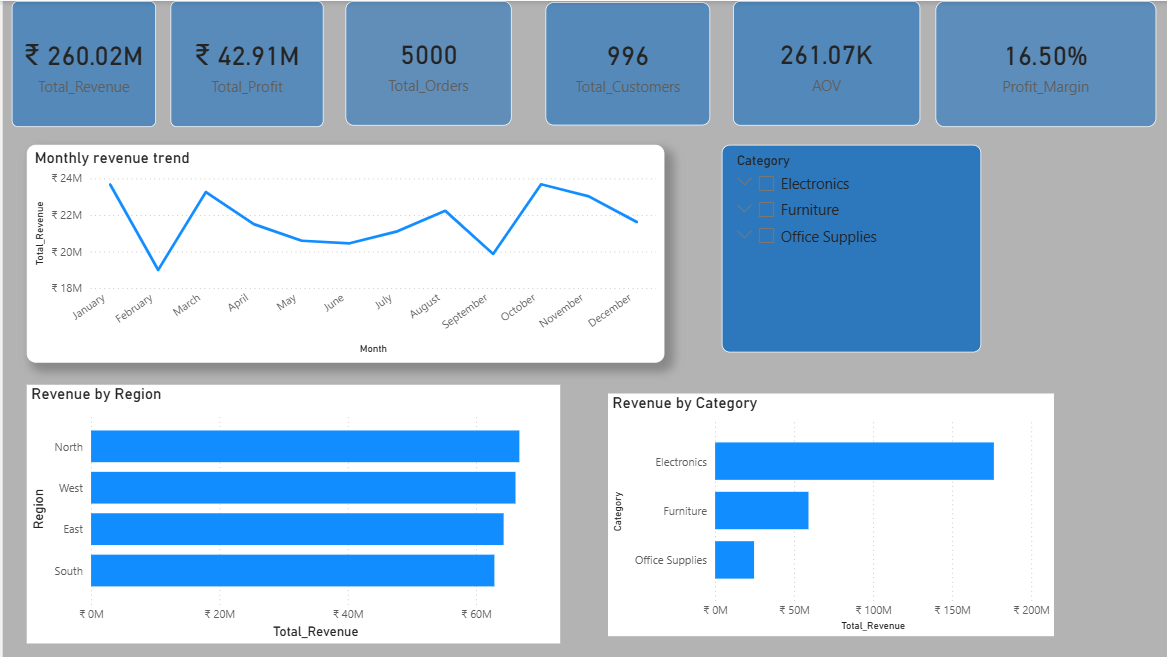

What the dashboard file says about the page in this screenshot:
{"tool":"powerbi","page":{"name":"Executive Summary","canvas":[1280,720],"ordinal":0},"visuals":[{"type":"card","fields":{"Values":["sales_analytics_project_dataset.Total_Revenue"]},"box":[10,0,158.2,138.3],"z":0},{"type":"card","fields":{"Values":["sales_analytics_project_dataset.Total_Profit"]},"box":[183.9,0,168.2,138.3],"z":1000},{"type":"card","fields":{"Values":["sales_analytics_project_dataset.Total_Orders"]},"box":[376.3,0,182.4,136.8],"z":2000},{"type":"card","fields":{"Values":["sales_analytics_project_dataset.Total_Customers"]},"box":[595.8,1.4,181,135.4],"z":3000},{"type":"card","fields":{"Values":["sales_analytics_project_dataset.AOV"]},"box":[801.1,0,205.3,136.8],"z":4000},{"type":"lineChart","title":" Monthly revenue trend","fields":{"Category":["sales_analytics_project_dataset.Order_Date.Variation.Date Hierarchy.Month"],"Y":["sales_analytics_project_dataset.Total_Revenue"]},"box":[25.7,158.2,699.9,239.5],"z":5000},{"type":"barChart","title":"Revenue by Category","fields":{"Category":["sales_analytics_project_dataset.Category"],"Y":["sales_analytics_project_dataset.Total_Revenue"]},"box":[664.2,430.9,489.9,266.2],"z":6000},{"type":"barChart","title":"Revenue by Region","fields":{"Category":["sales_analytics_project_dataset.Region"],"Y":["sales_analytics_project_dataset.Total_Revenue"]},"box":[26.1,421.3,585.9,284],"z":7000},{"type":"card","fields":{"Values":["sales_analytics_project_dataset.Profit_Margin"]},"box":[1023.4,0,242.3,138.3],"z":7001},{"type":"slicer","fields":{"Values":["sales_analytics_project_dataset.Category","sales_analytics_project_dataset.Region","sales_analytics_project_dataset.Product"]},"box":[789.7,158.2,285.1,228.1],"z":7002}]}

Visuals, with their boxes in screenshot pixels (x1, y1, x2, y2), scaled from the page's 1280x720 canvas onto the 1167x657 screenshot:
card - sales_analytics_project_dataset.Total_Revenue: box=[9, 0, 153, 126]
card - sales_analytics_project_dataset.Total_Profit: box=[168, 0, 321, 126]
card - sales_analytics_project_dataset.Total_Orders: box=[343, 0, 509, 125]
card - sales_analytics_project_dataset.Total_Customers: box=[543, 1, 708, 125]
card - sales_analytics_project_dataset.AOV: box=[730, 0, 918, 125]
" Monthly revenue trend" lineChart: box=[23, 144, 662, 363]
"Revenue by Category" barChart: box=[606, 393, 1052, 636]
"Revenue by Region" barChart: box=[24, 384, 558, 644]
card - sales_analytics_project_dataset.Profit_Margin: box=[933, 0, 1154, 126]
slicer - sales_analytics_project_dataset.Category x sales_analytics_project_dataset.Region: box=[720, 144, 980, 352]
